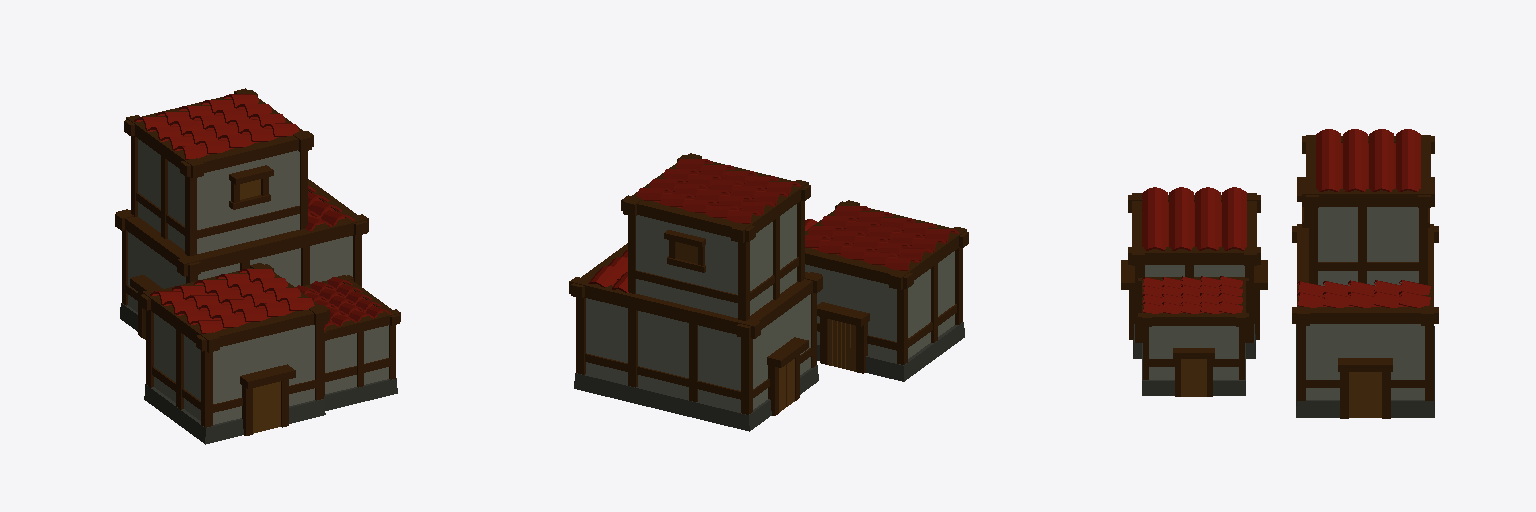
Rendered from Houses_SecondAge_3_Level3_Cube.obj.
The picture shows the model from 3 angles: view 1: azimuth 30°, elevation 25°; view 2: azimuth 150°, elevation 25°; view 3: azimuth 270°, elevation 25°; orthographic projection.
Visible parts, largest first — view 1: Houses_SecondAge_3_Level3_Cube.000; view 2: Houses_SecondAge_3_Level3_Cube.000; view 3: Houses_SecondAge_3_Level3_Cube.000.
Part boxes in pixels (x1,y1,x2,y2): Houses_SecondAge_3_Level3_Cube.000: (115,88,400,444); Houses_SecondAge_3_Level3_Cube.000: (569,153,968,431); Houses_SecondAge_3_Level3_Cube.000: (1121,129,1438,418).
Bounding box in the file's own units: 1.35 × 1.06 × 1.46.